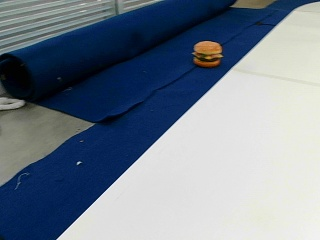burger: (192, 38, 222, 66)
